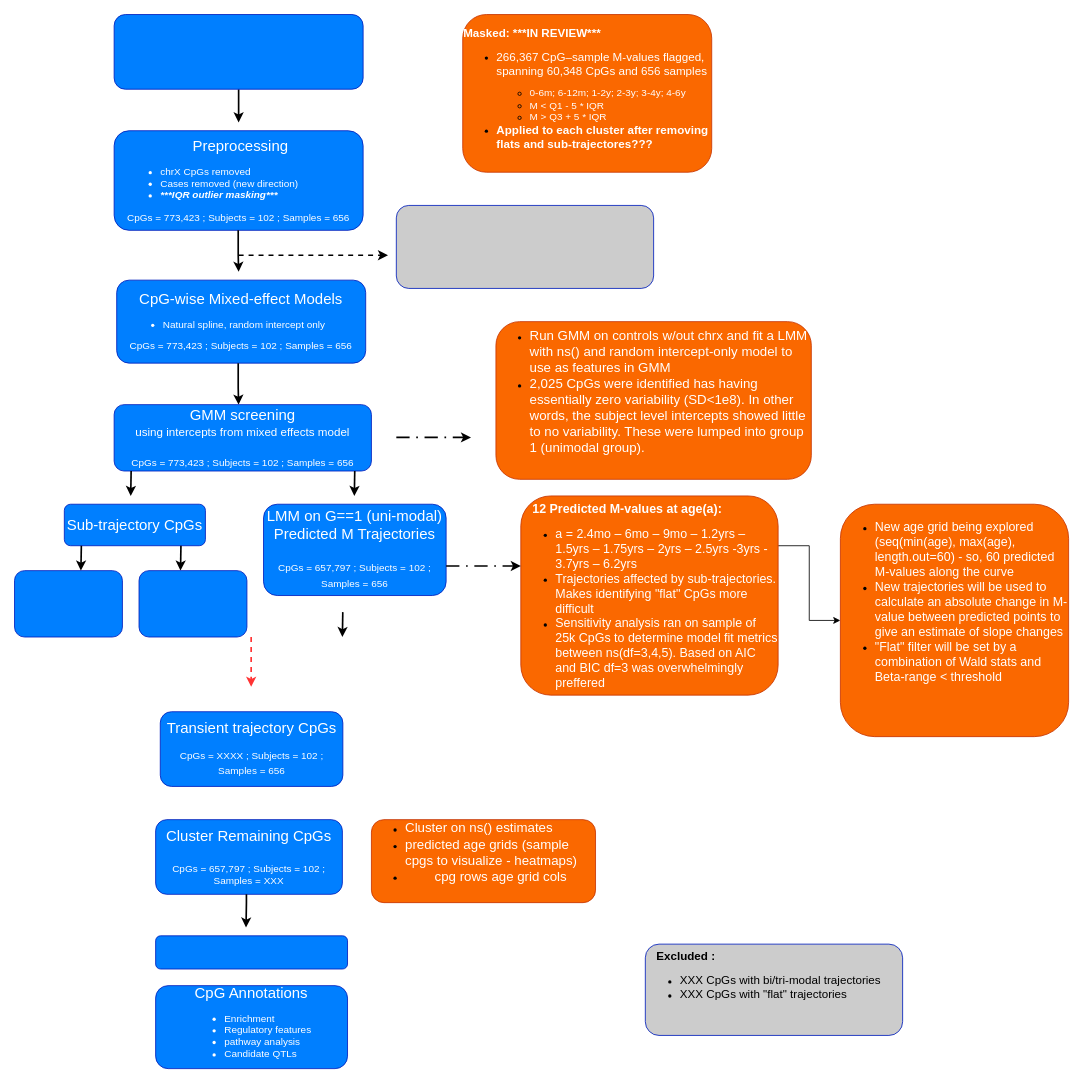
Some shapes in this 1083 by 1084 pixel diagram are drawn without their labels. The shapes that lost their labels are listed below. From the top down, each one's centre as x and y in pixels, then its label:
(x=238, y=51): M-value Matrix (QC'd) CpGs = 790,944 ; Subjects = 209 ; Samples = 1407
(x=524, y=246): Excluded: 17,521 CpGs on X-chromosome 107 subjects (cases) 751 samples
(x=68, y=603): G==2 CpGs = 101,696 ; Subjects = 102 ; Samples = 656
(x=192, y=603): G==3 CpGs = 13,930 ; Subjects = 102 ; Samples = 656
(x=251, y=952): Trajectory Dynamics
